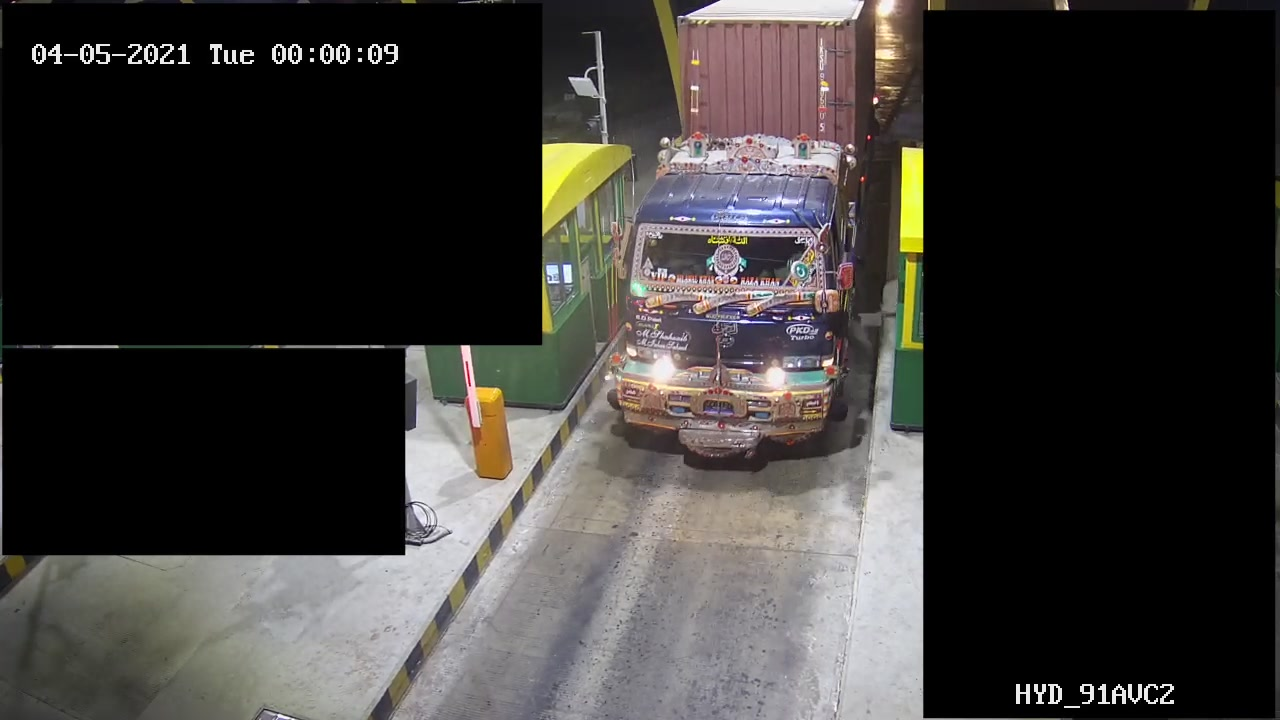F6: (605, 1, 877, 467)
